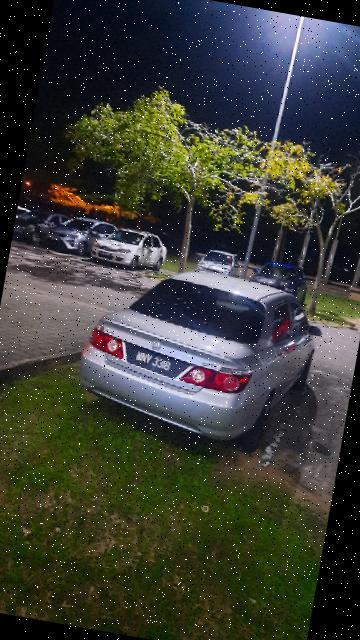License_Plate: (121, 342, 196, 383)
car: (69, 252, 332, 463), (45, 212, 126, 263), (90, 225, 170, 274), (247, 258, 314, 312), (12, 204, 76, 253), (193, 246, 244, 285)
